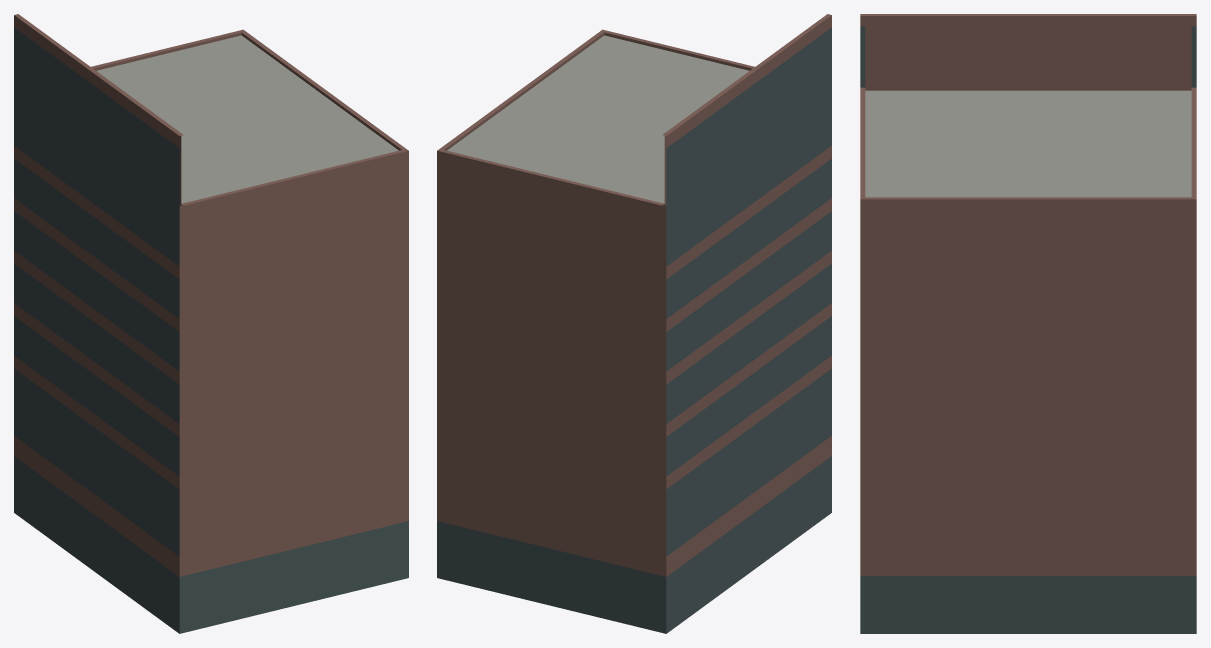
File: far.fbx
3 views of the same model, side by side, from view 1: azimuth 30°, elevation 25°; view 2: azimuth 150°, elevation 25°; view 3: azimuth 270°, elevation 25° (orthographic).
Parts seen in each view (by area): view 1: a2009/0/far; view 2: a2009/0/far; view 3: a2009/0/far.
Part boxes in pixels (bbox=[...]): a2009/0/far: bbox=[14, 14, 408, 633]; a2009/0/far: bbox=[437, 14, 831, 633]; a2009/0/far: bbox=[860, 14, 1196, 633].
Size of the model in its own units: 16 by 33.19 by 20.
